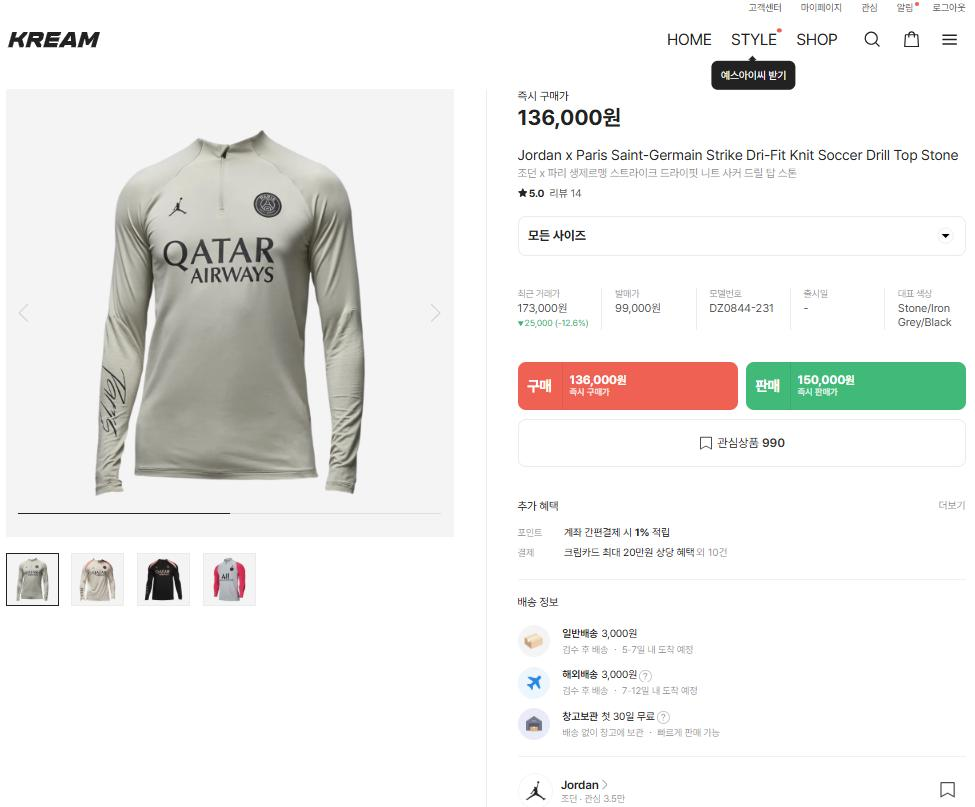button: (515, 417, 974, 472), (515, 359, 741, 412), (745, 359, 970, 412), (6, 552, 59, 607), (70, 551, 121, 608), (202, 550, 253, 607), (138, 552, 191, 606), (727, 26, 786, 52), (792, 27, 845, 54), (932, 774, 975, 807), (664, 24, 714, 51), (854, 26, 891, 55), (924, 0, 975, 19), (793, 0, 848, 17), (927, 496, 975, 514), (898, 27, 928, 54), (937, 27, 966, 54), (747, 0, 786, 19), (887, 0, 922, 18), (859, 1, 884, 18)
checkbox: (515, 211, 972, 263)
popup: (707, 55, 804, 97)
